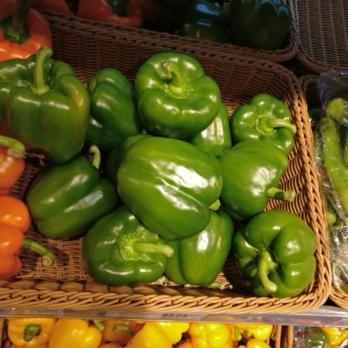Capsicum: (3, 90, 292, 295), (134, 51, 221, 135)
